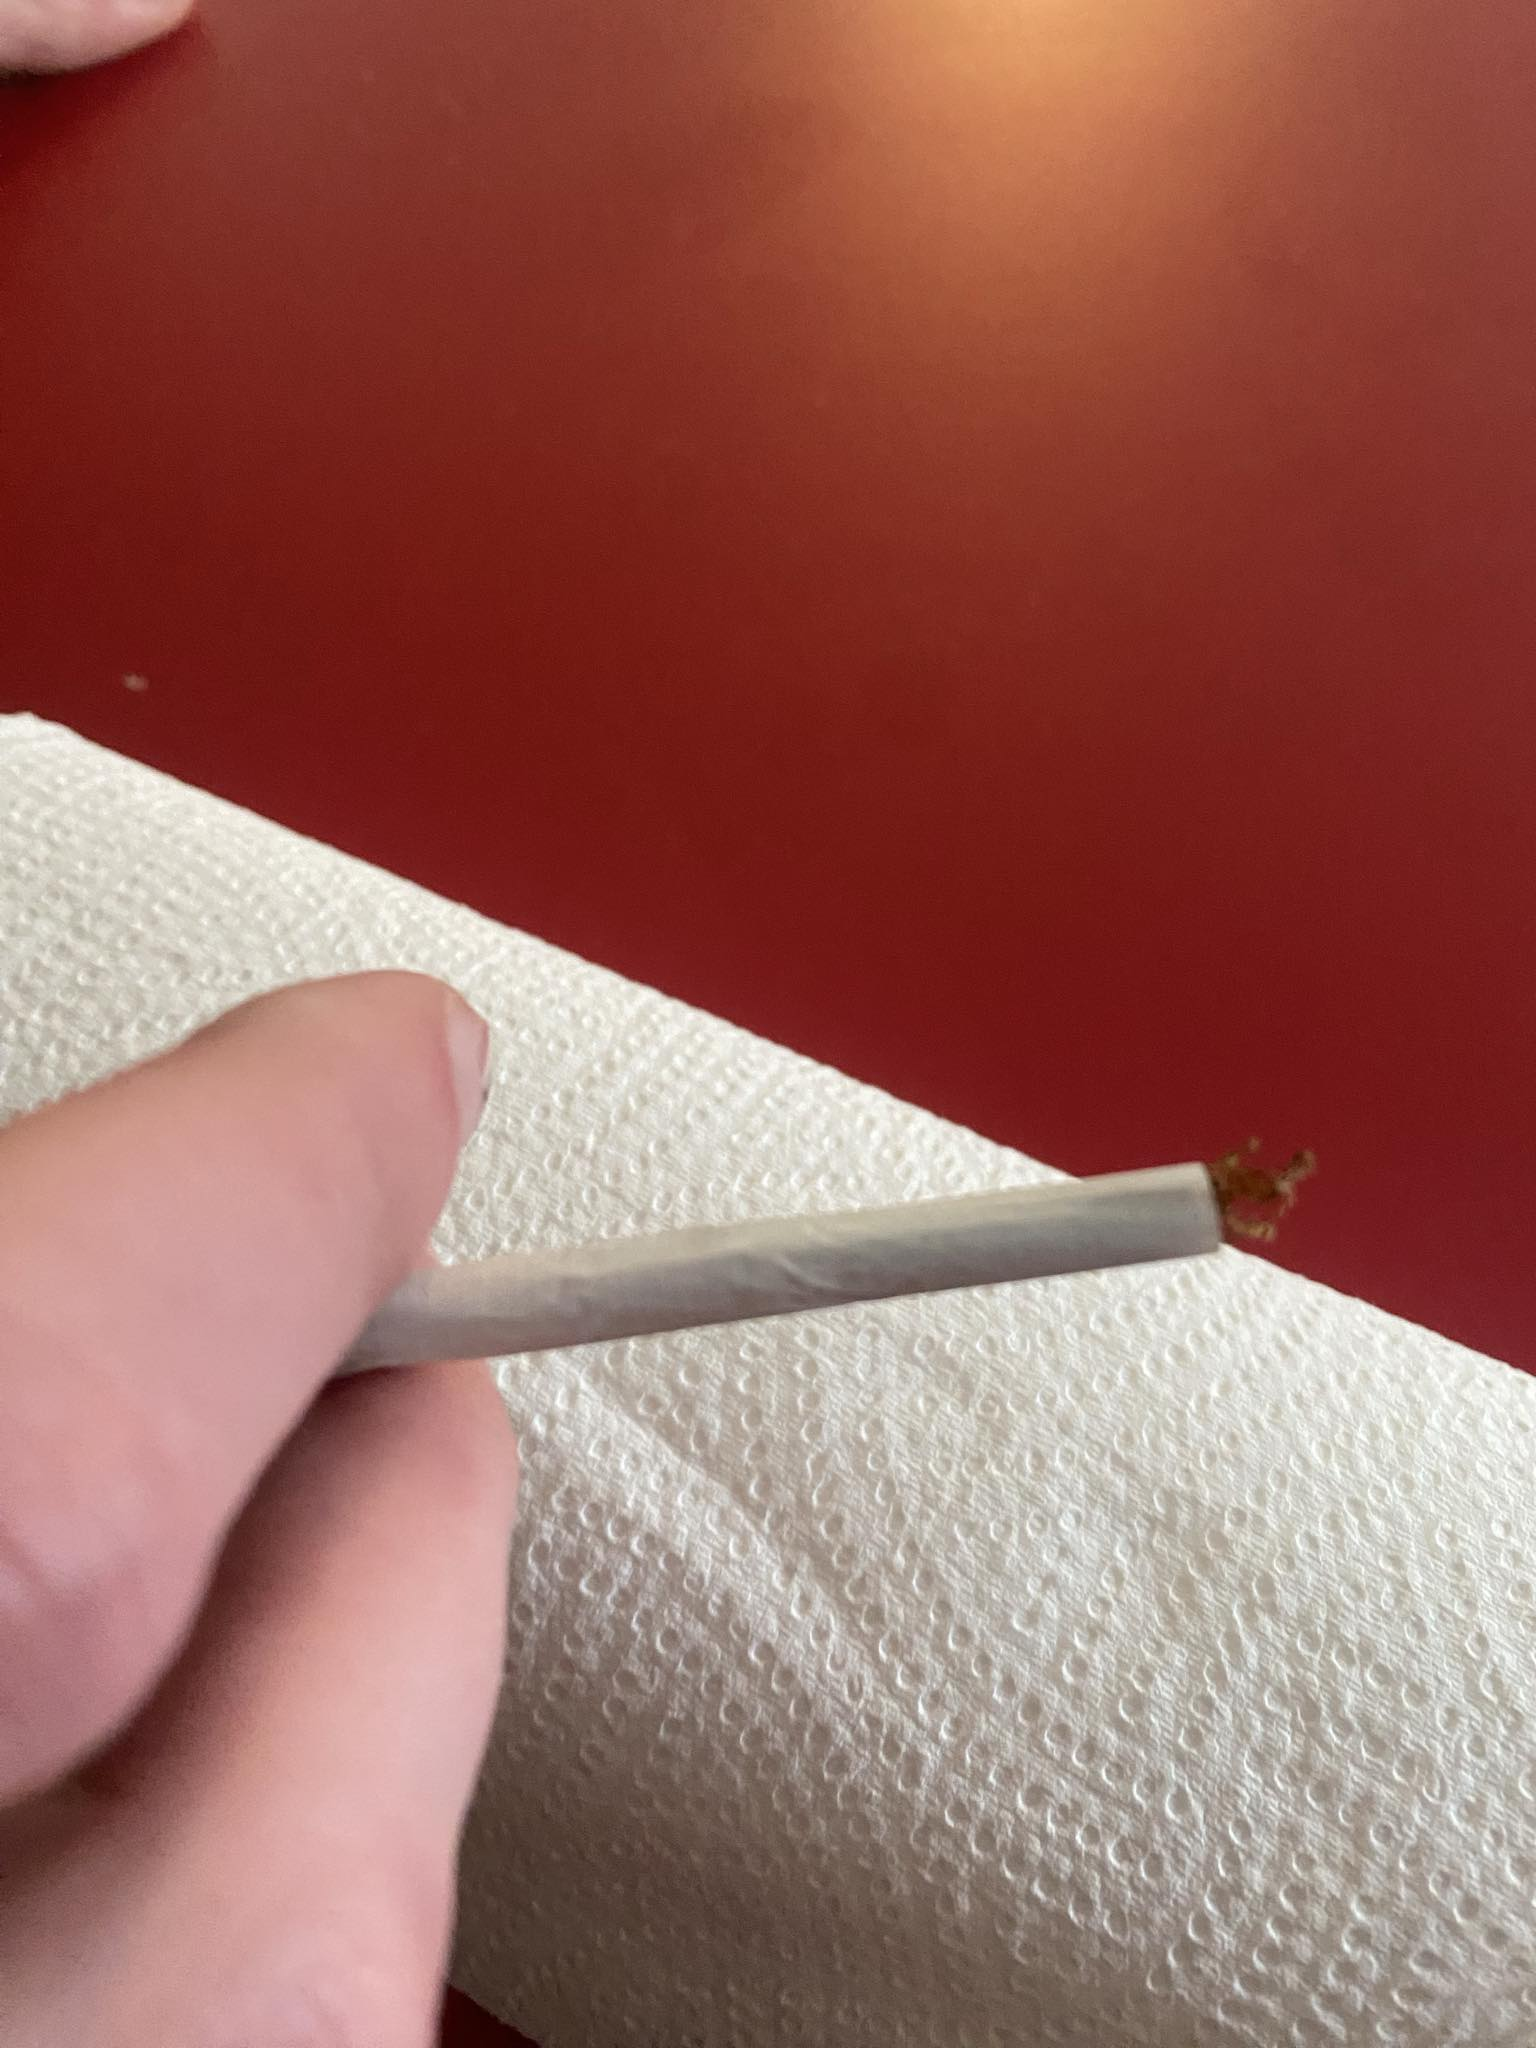Cigarette: (458, 1142, 1312, 1363)
